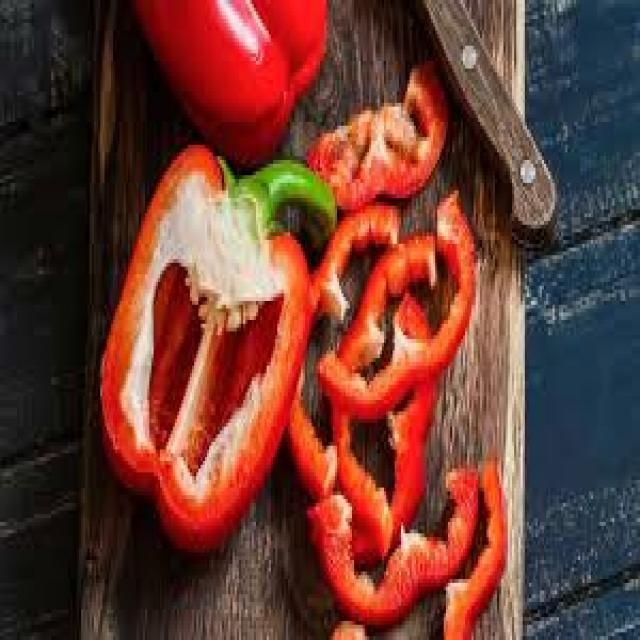Pepper: (100, 146, 313, 555), (128, 0, 329, 174)
